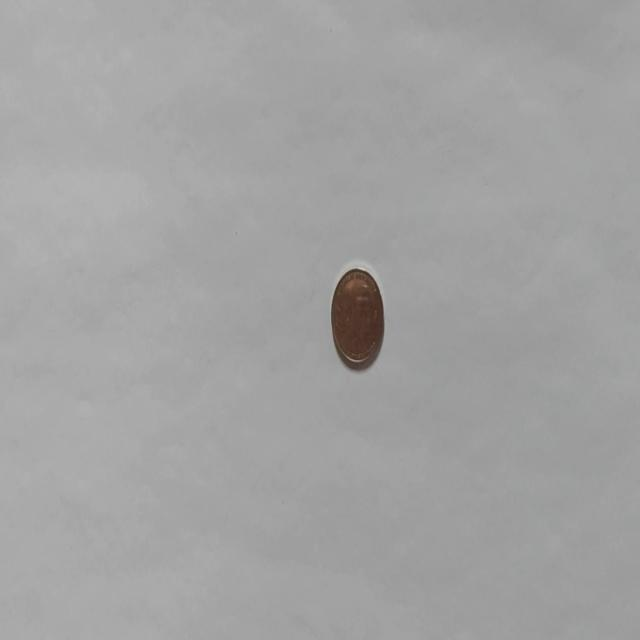seribu rupiah koin: (330, 261, 384, 370)
